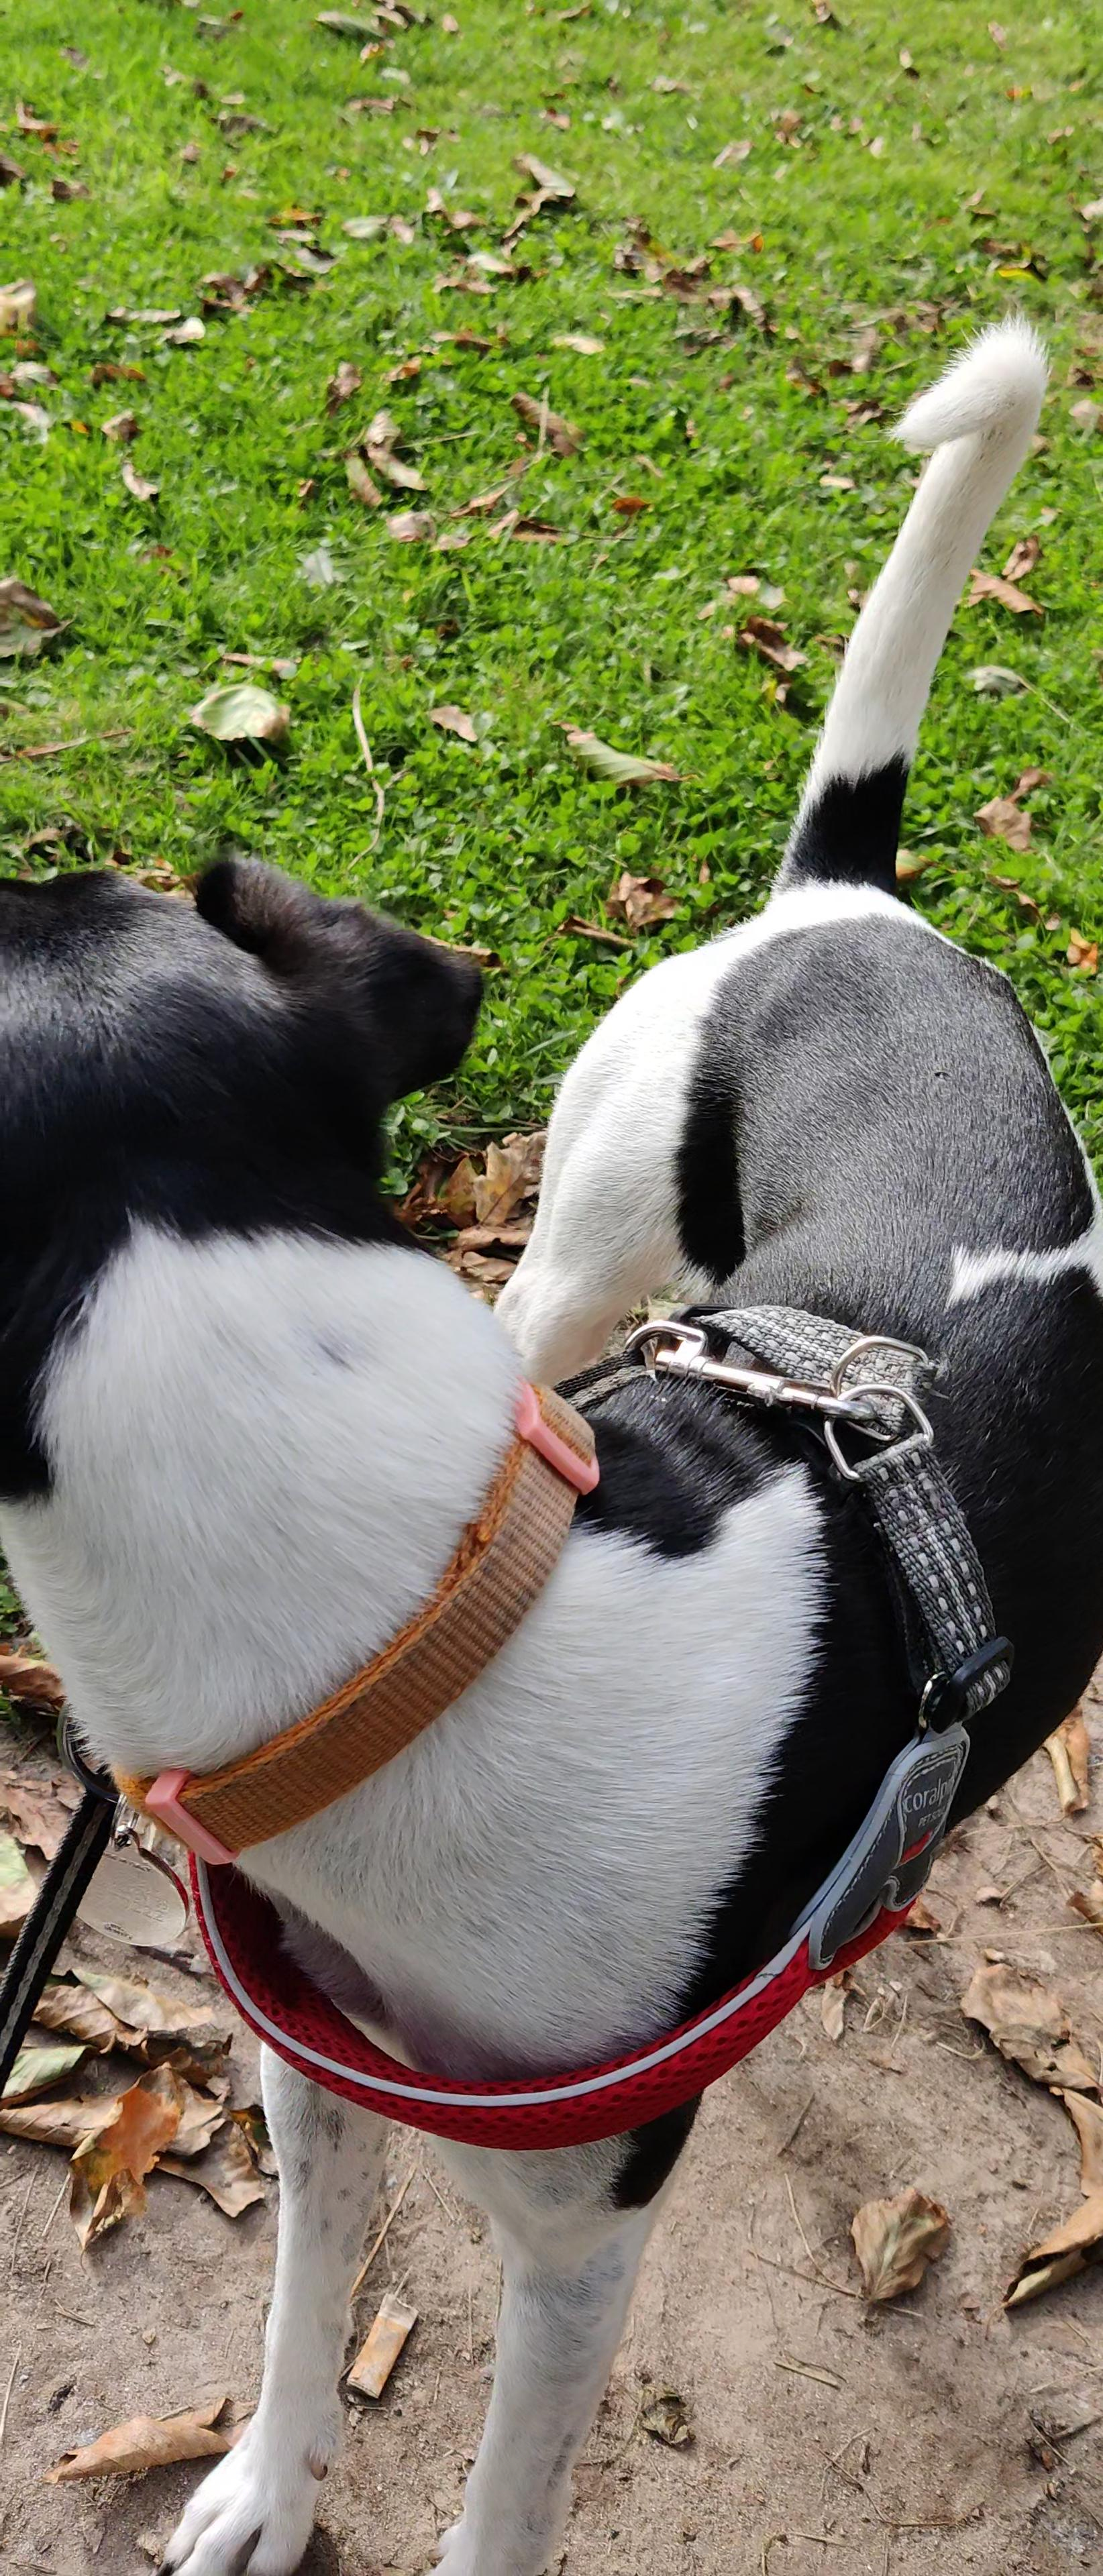Dog: (0, 307, 1103, 2576)
